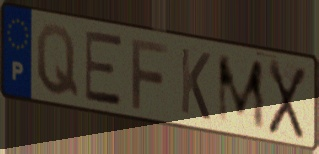E: (83, 30, 124, 109)
F: (129, 35, 170, 113)
K: (179, 44, 212, 124)
M: (215, 54, 268, 132)
Q: (34, 22, 81, 101)
X: (266, 57, 309, 143)
